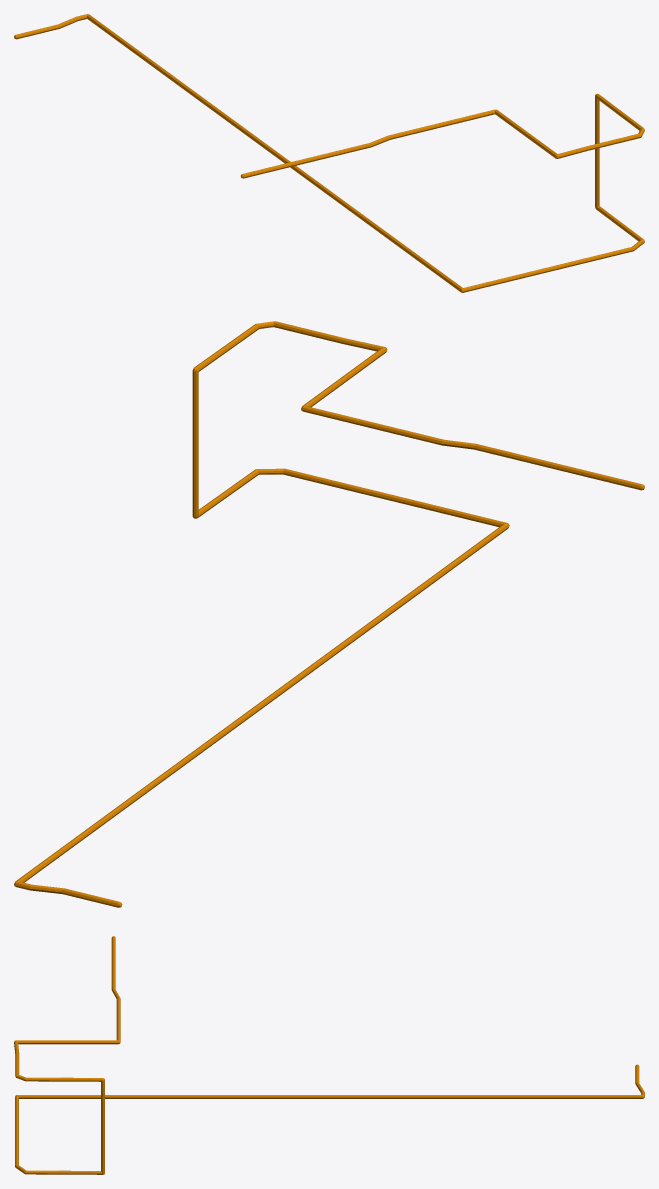
3 views of the same model, one above another, from view 1: azimuth 30°, elevation 25°; view 2: azimuth 150°, elevation 25°; view 3: azimuth 270°, elevation 25° (orthographic). The views are drawn at different scales.
Bounding box in the file's own units: 1655 × 520 × 3074.
